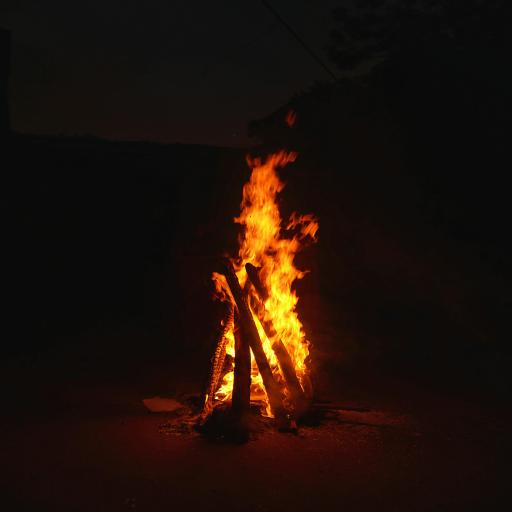campfire: (153, 114, 362, 462)
